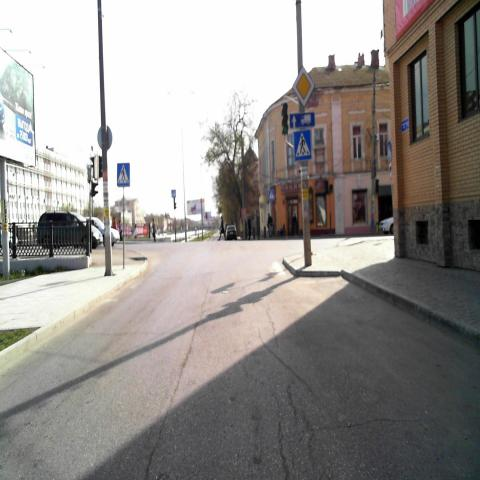6_15_1: (289, 112, 315, 128)
